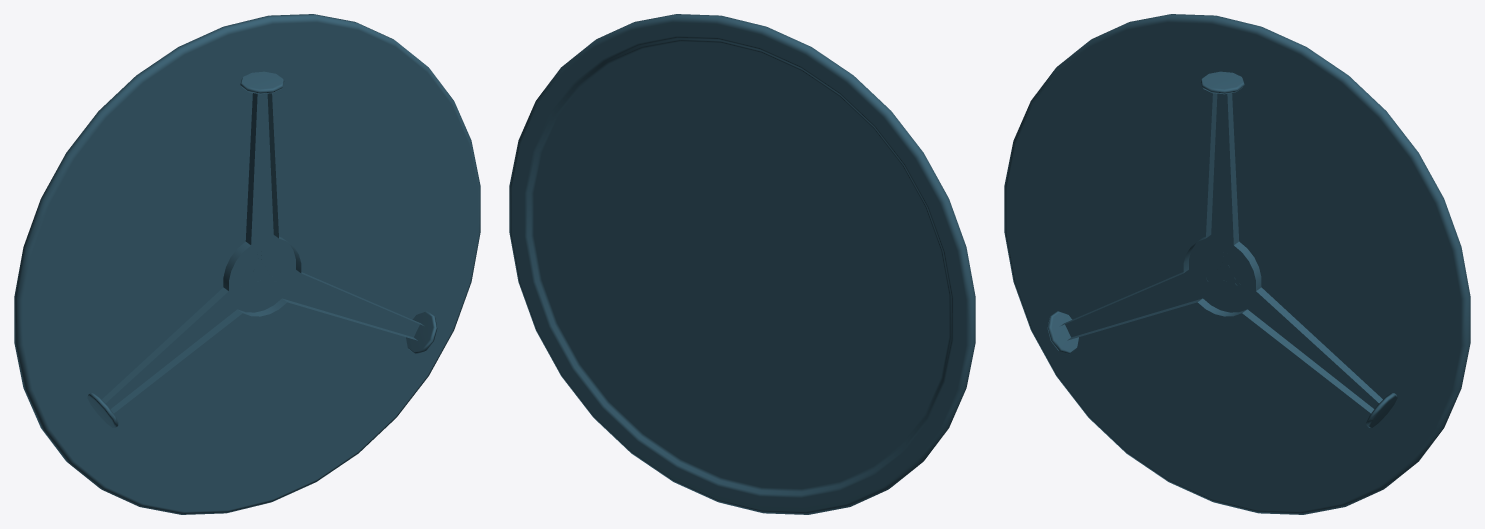
Rendered from SM_MicStove_01_Wheel_01.fbx.
3 renders of one model, left to right at view 1: azimuth 30°, elevation 25°; view 2: azimuth 150°, elevation 25°; view 3: azimuth 330°, elevation 25°, orthographic.
Visible parts, largest first — view 1: SM_MicStove_01_Wheel_01; view 2: SM_MicStove_01_Wheel_01; view 3: SM_MicStove_01_Wheel_01.
Boxes of the visible parts, x1=… form: SM_MicStove_01_Wheel_01: x1=14, y1=14, x2=480, y2=514; SM_MicStove_01_Wheel_01: x1=509, y1=14, x2=975, y2=514; SM_MicStove_01_Wheel_01: x1=1004, y1=14, x2=1470, y2=514.
Size of the model in its own units: 27.25 by 27.25 by 3.03.
